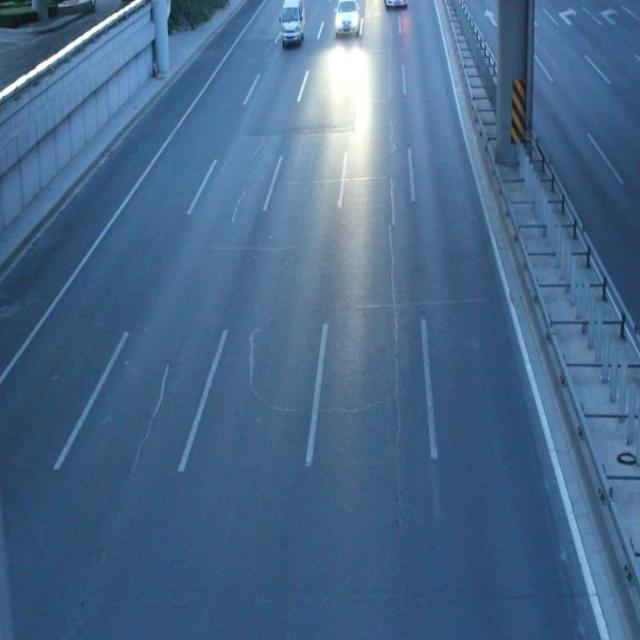car: (280, 1, 306, 43), (335, 1, 358, 36)
